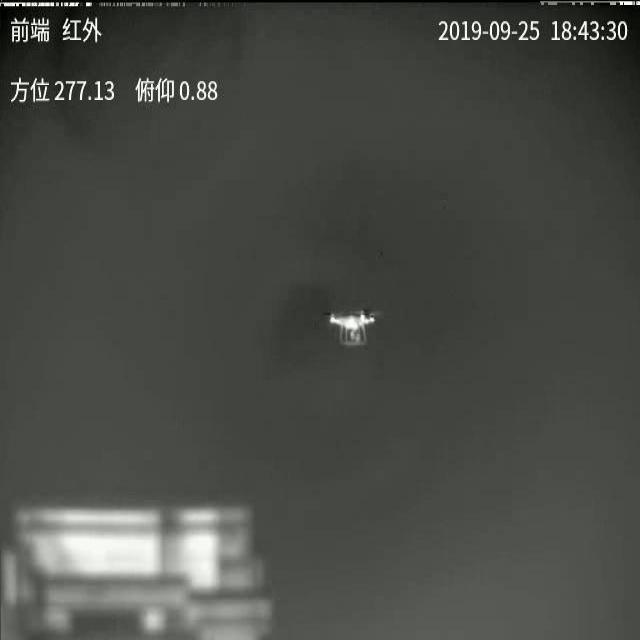drone: (322, 310, 377, 347)
